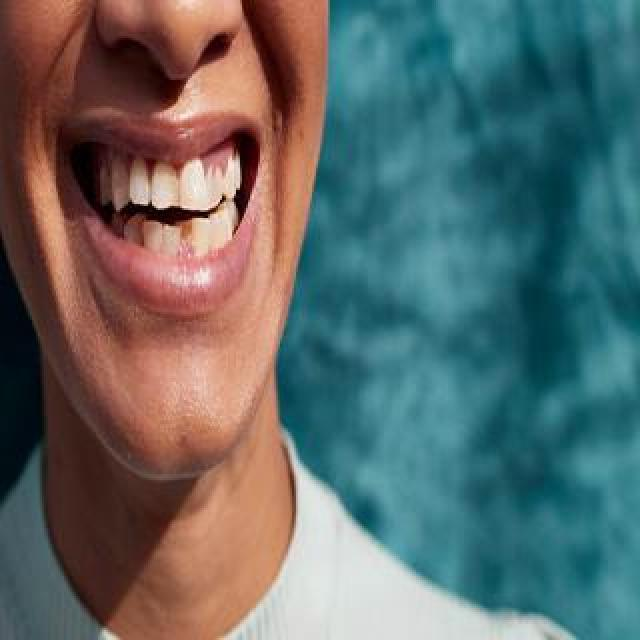maligned: (124, 214, 150, 250), (159, 217, 181, 251), (174, 217, 194, 253), (200, 168, 220, 204)
stains: (174, 216, 196, 248)
